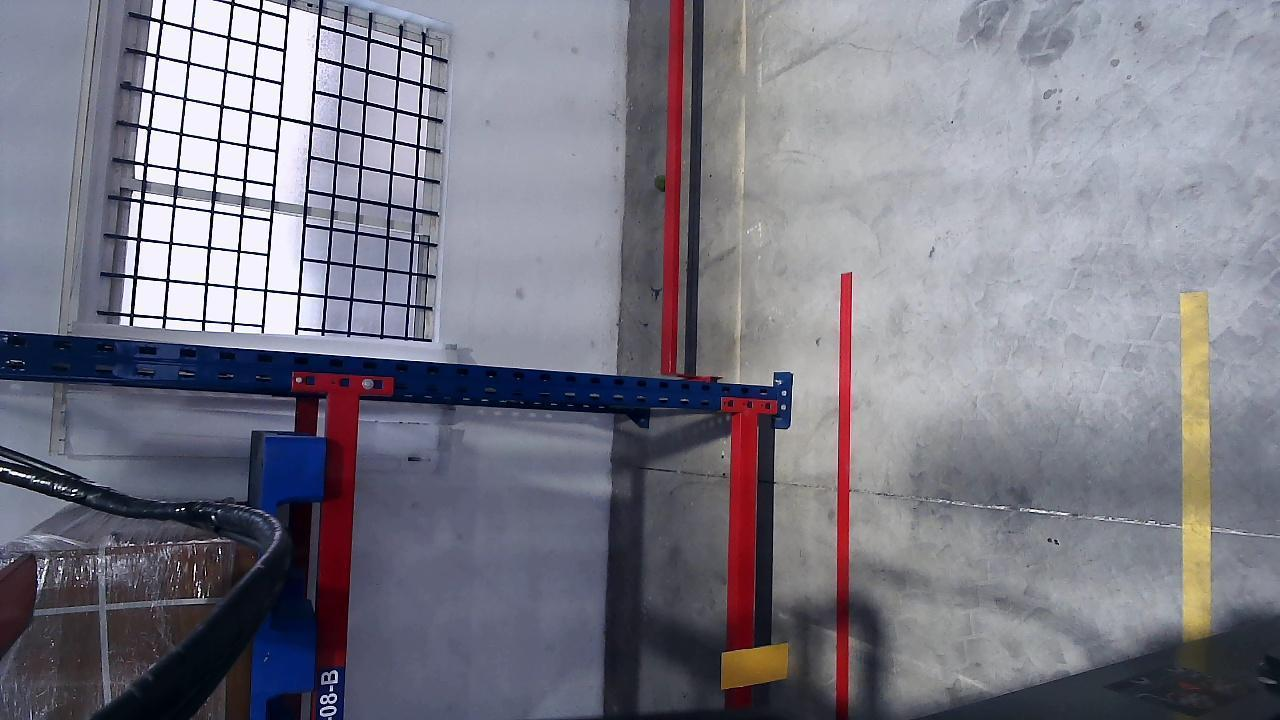red_line: (835, 276, 854, 719)
yellow_line: (1180, 298, 1213, 635)
